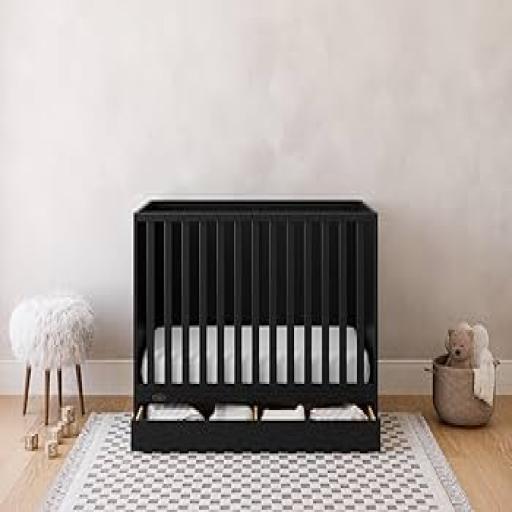crib: (132, 202, 380, 451)
